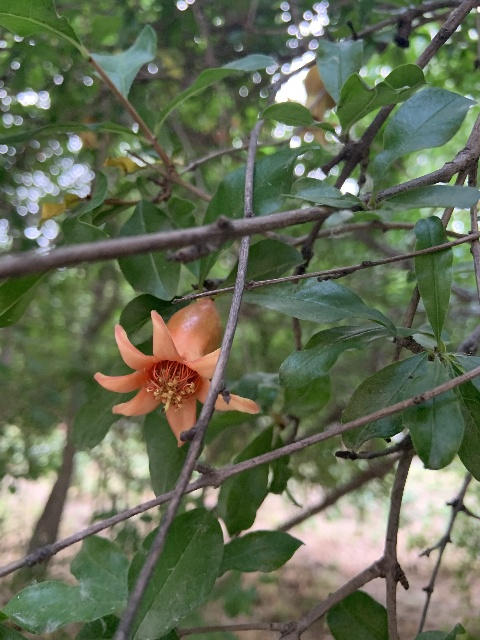early-fruit: (93, 297, 260, 446), (279, 64, 336, 147)
